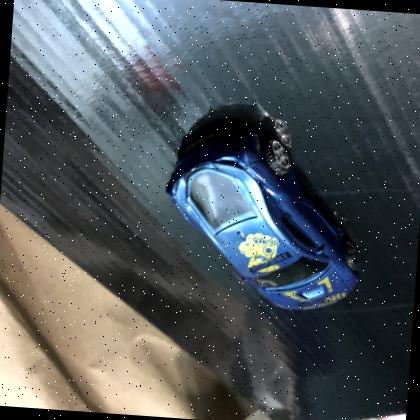Car: (165, 129, 359, 311)
